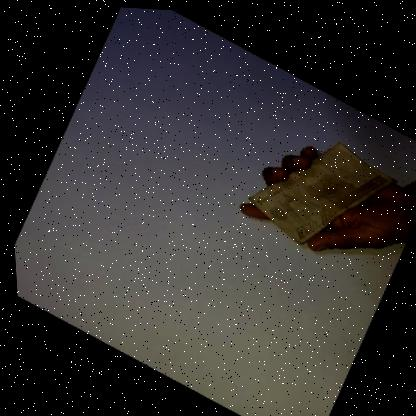five-back-vef: (234, 116, 404, 263)
